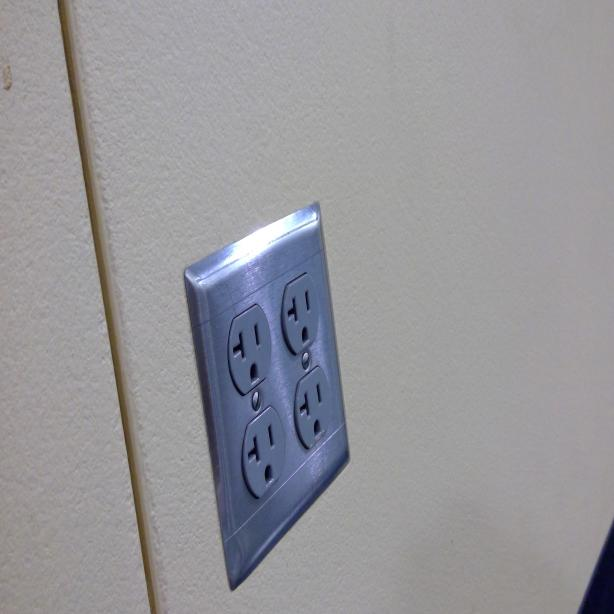typeb: (230, 309, 274, 391), (277, 286, 321, 353), (239, 423, 285, 487), (292, 377, 331, 442)
